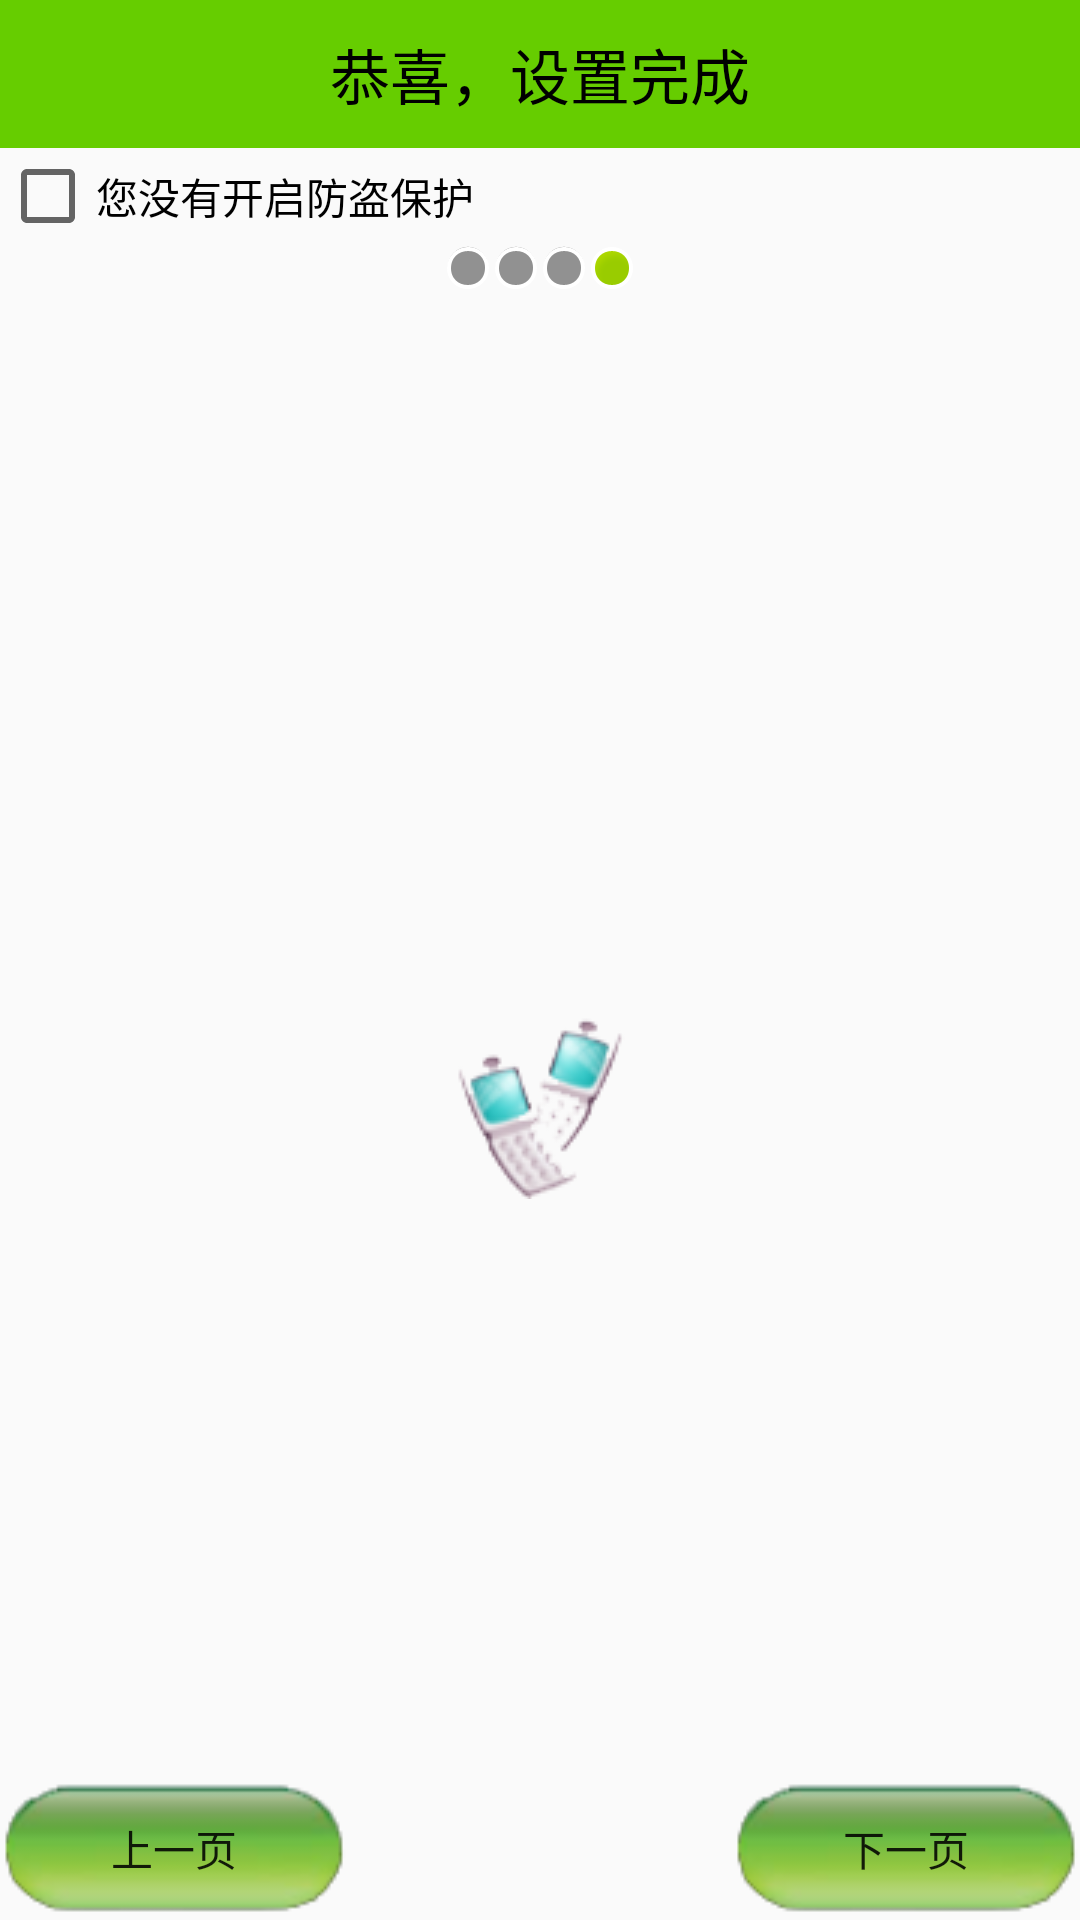

Where icons sit on this 1080x1920 app screen, as (x1, y1, x2, y2):
phone: (459, 1021, 621, 1199)
presence invisible: (451, 247, 485, 285), (499, 247, 533, 285), (547, 247, 581, 285)
presence online: (595, 251, 629, 285)
